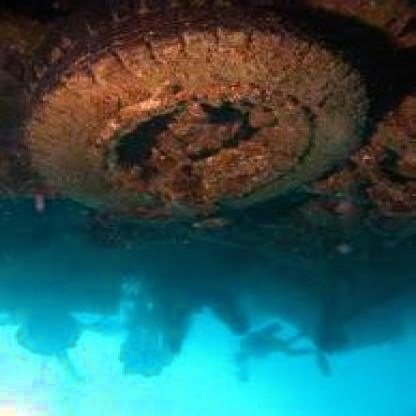tire: (71, 2, 375, 204)
